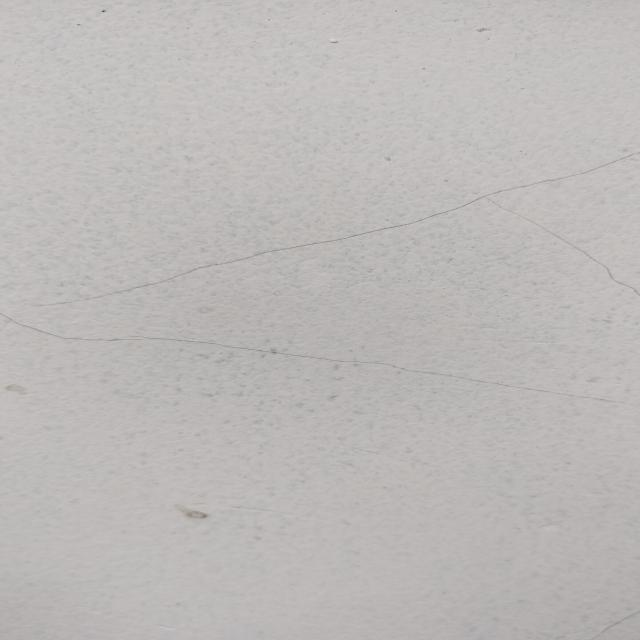Crack: (5, 148, 640, 408)
